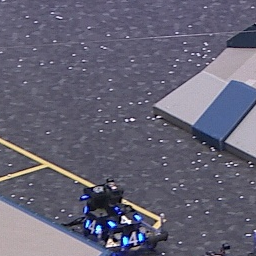Blue: (107, 210, 142, 226), (121, 231, 144, 246), (83, 218, 102, 235)
Robot: (61, 181, 170, 253)
